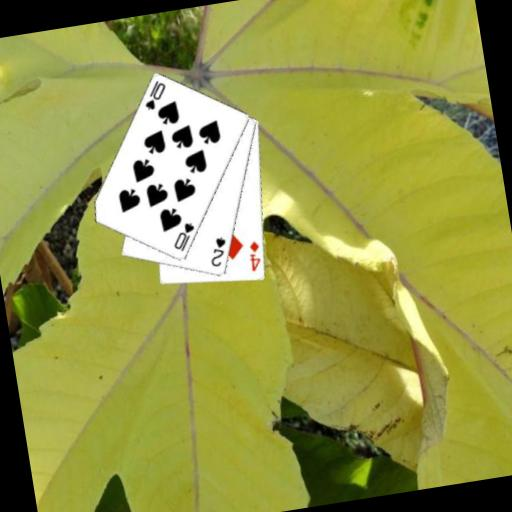10S: (167, 219, 199, 255), (138, 77, 170, 113)
2S: (204, 233, 231, 270)
4D: (244, 237, 265, 273)
